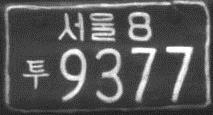3: (94, 47, 124, 104)
7: (164, 44, 195, 105), (129, 45, 158, 102)
8: (126, 12, 153, 42)
9: (59, 47, 88, 103)
서울_O: (57, 11, 116, 43)
투: (21, 57, 50, 90)
